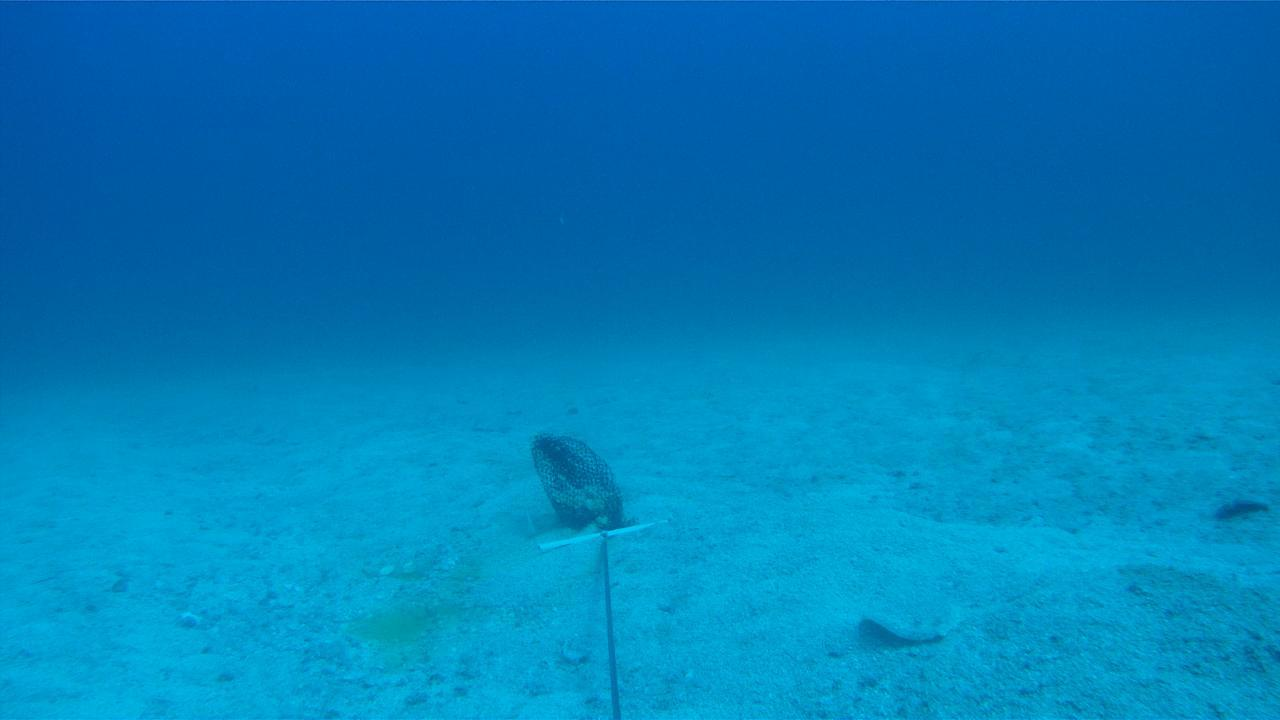bothus: (859, 565, 971, 647)
